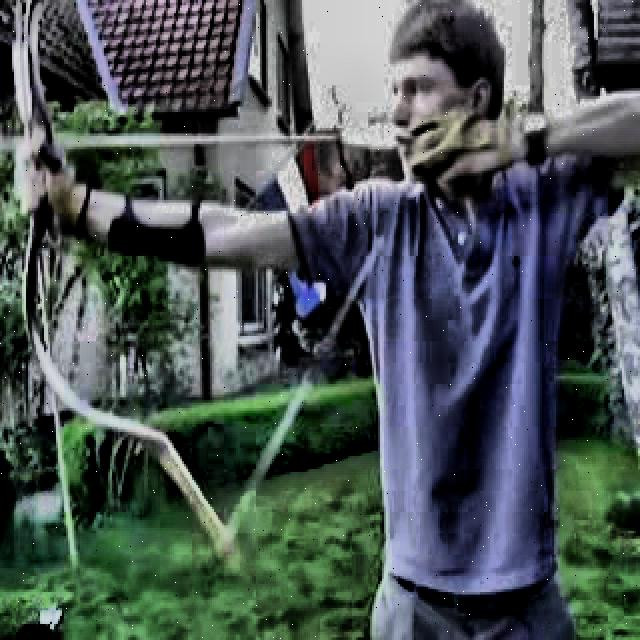P: (23, 5, 583, 632)
